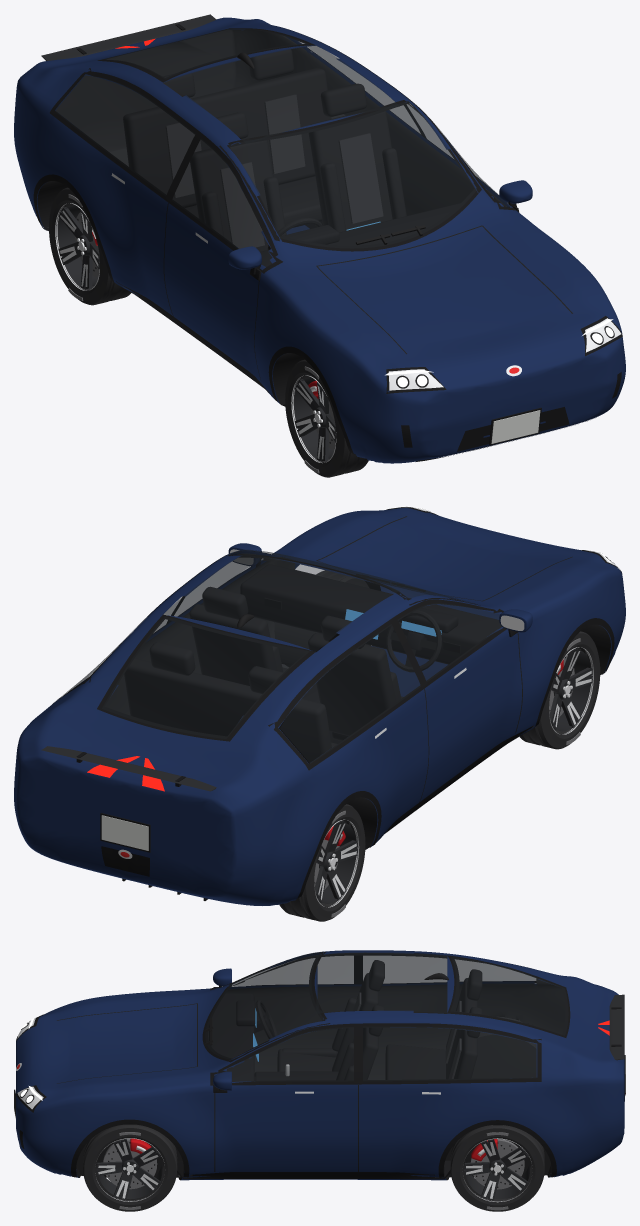
Rendered from modelyp.glb.
3 views of the same model, one above another, from view 1: azimuth 30°, elevation 25°; view 2: azimuth 150°, elevation 25°; view 3: azimuth 270°, elevation 25° (orthographic). The views are drawn at different scales.
Parts seen in each view (by area): view 1: Body, Wheel_FR, Wheel_RR; view 2: Body, Wheel_RR, Wheel_FR; view 3: Body, Wheel_RL, Wheel_FL.
Part boxes in pixels (left/top/right/bottom): Body: left=14, top=14, right=625, bottom=463; Wheel_FR: left=285, top=359, right=368, bottom=477; Wheel_RR: left=49, top=187, right=131, bottom=305; Body: left=14, top=506, right=625, bottom=905; Wheel_RR: left=279, top=804, right=365, bottom=921; Wheel_FR: left=519, top=631, right=600, bottom=749; Body: left=14, top=950, right=625, bottom=1180; Wheel_RL: left=450, top=1125, right=544, bottom=1211; Wheel_FL: left=83, top=1124, right=177, bottom=1211.
Size of the model in its own units: 2.12 by 1.65 by 4.81.
